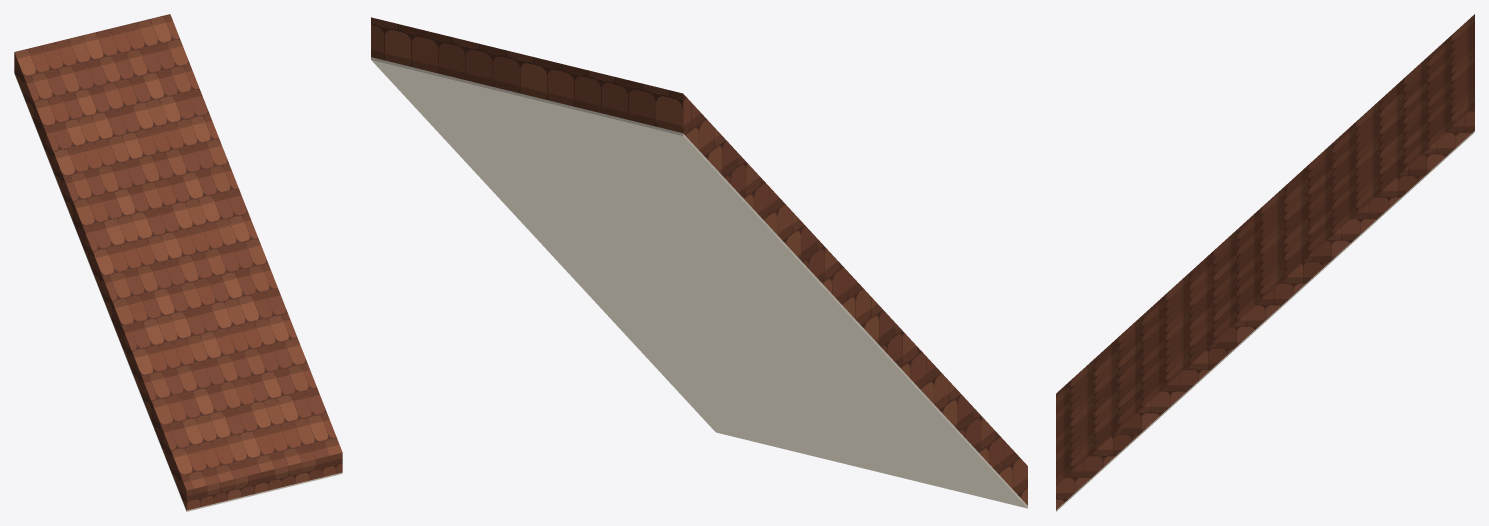
File: roof_slope_end_l.glb
3 renders of one model, left to right at view 1: azimuth 30°, elevation 25°; view 2: azimuth 150°, elevation 25°; view 3: azimuth 270°, elevation 25°, orthographic. The views are drawn at different scales.
Parts seen in each view (by area): view 1: roof_slope_end_l_roof_tiles, roof_slope_end_l_plaster; view 2: roof_slope_end_l_plaster, roof_slope_end_l_roof_tiles; view 3: roof_slope_end_l_roof_tiles, roof_slope_end_l_plaster.
Part boxes in pixels (<box>): roof_slope_end_l_roof_tiles: <box>14,14,342,510</box>; roof_slope_end_l_plaster: <box>14,73,342,511</box>; roof_slope_end_l_plaster: <box>371,57,1027,508</box>; roof_slope_end_l_roof_tiles: <box>371,17,1027,505</box>; roof_slope_end_l_roof_tiles: <box>1056,14,1474,509</box>; roof_slope_end_l_plaster: <box>1056,131,1474,511</box>.
Bounding box in the file's own units: 2.3 × 4.7 × 4.4.
Materials: 2 (2 with a texture image).
